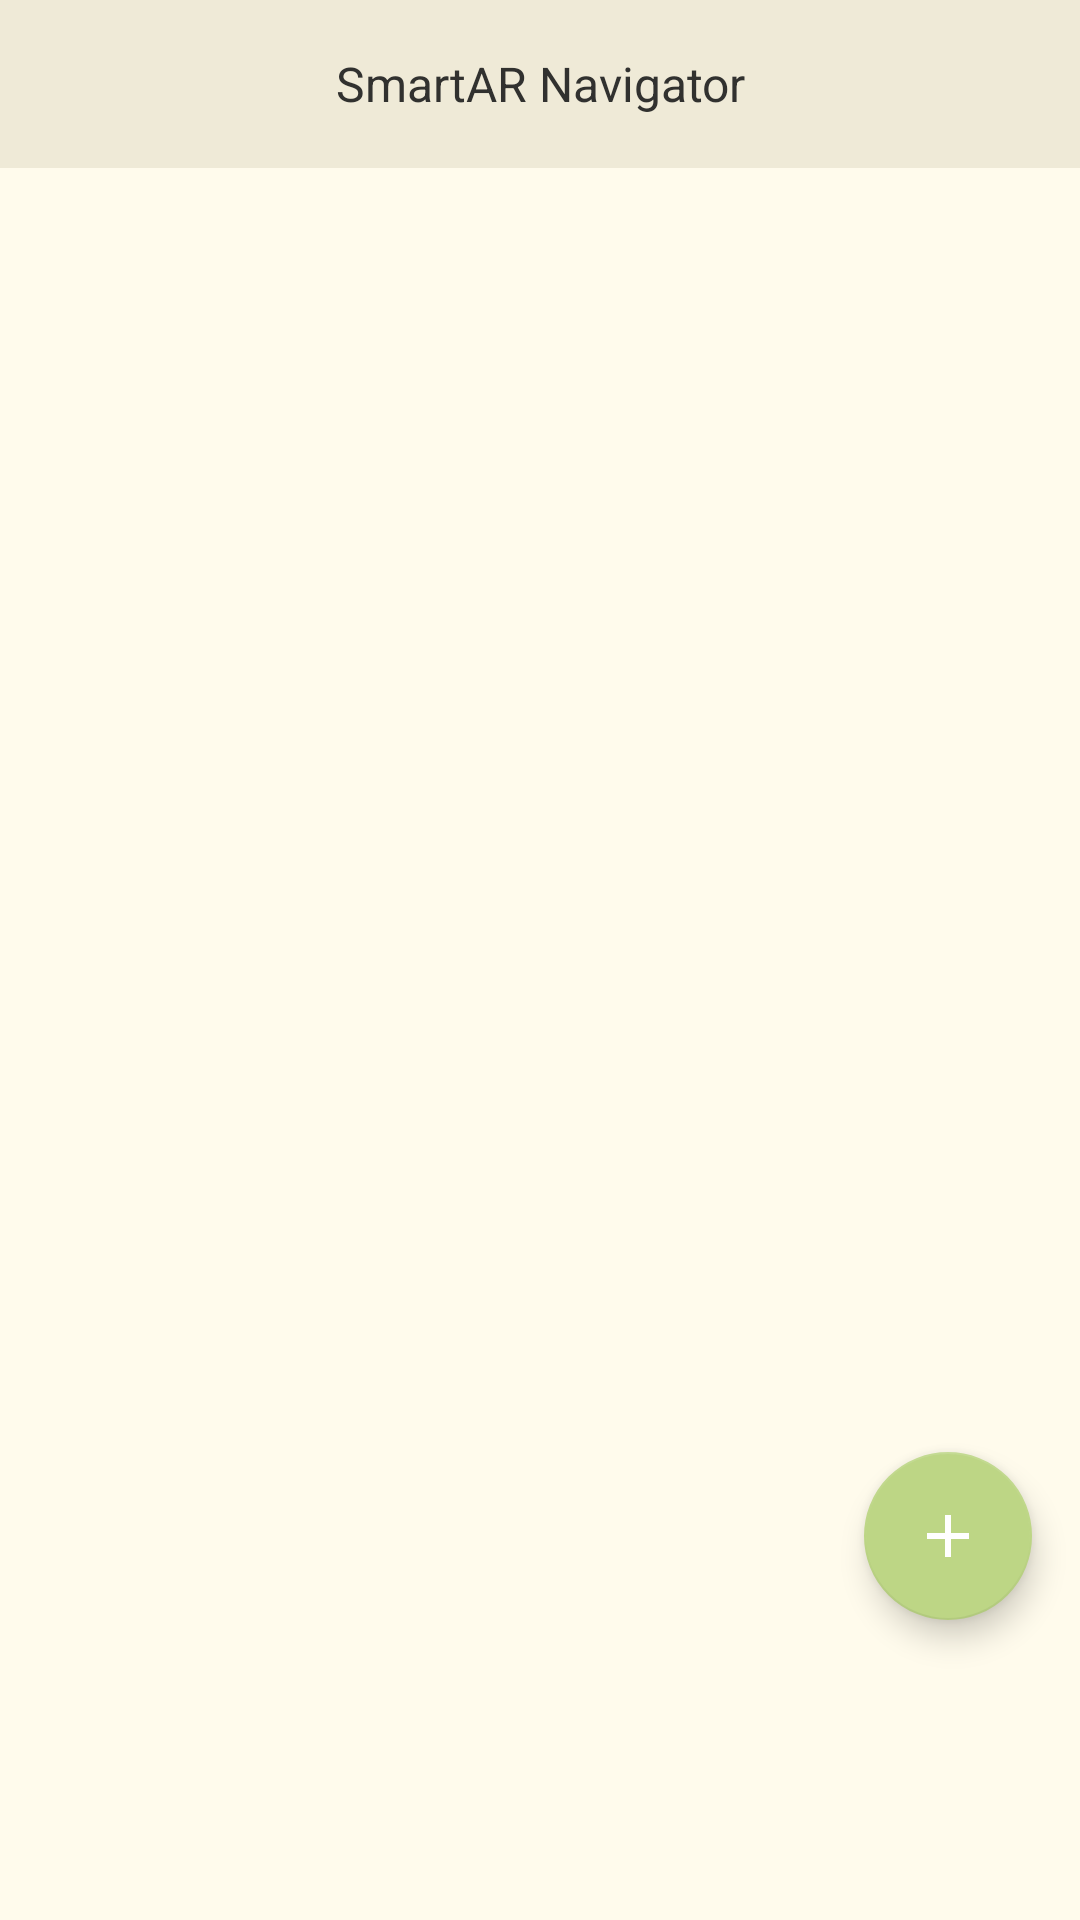

Where icons sit on this 1080×1920 app screen, as (x1, y1, x2, y2):
add: (864, 1452, 1032, 1620)
